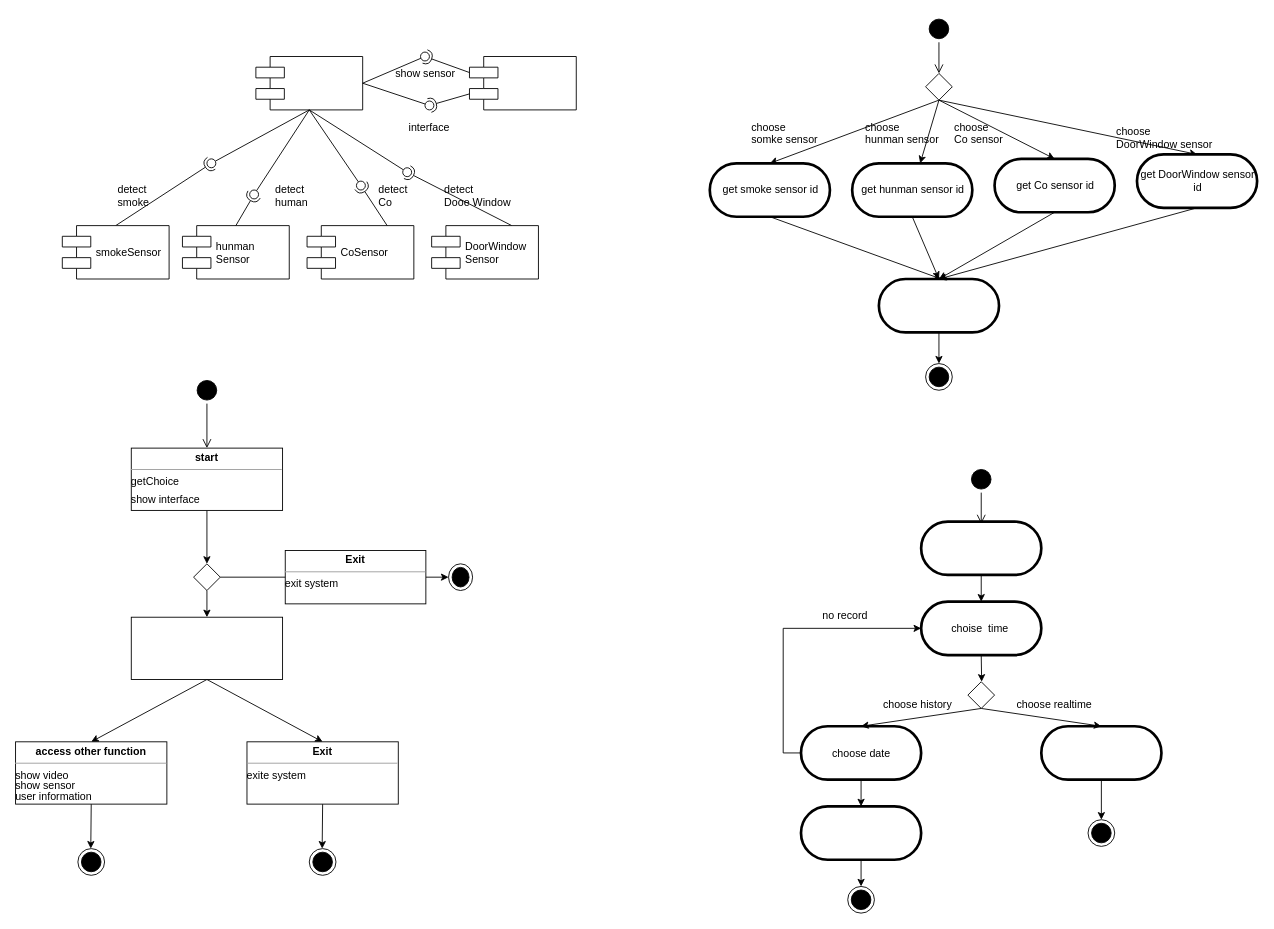
The diagram is 1274 pixels wide and 929 high, and some of its shapes have lost their labels. The centre of each missing label's shape, as x and y in pixels:
"Contorl panel" belongs at (522,83).
"get Sensor id" belongs at (980,548).
"return history record" belongs at (860,833).
"return realtime record" belongs at (1101,752).
"return sensor id" belongs at (938,305).
"show Sensor alarm homeowner exit system" belongs at (206,648).
"System" belongs at (309,83).
